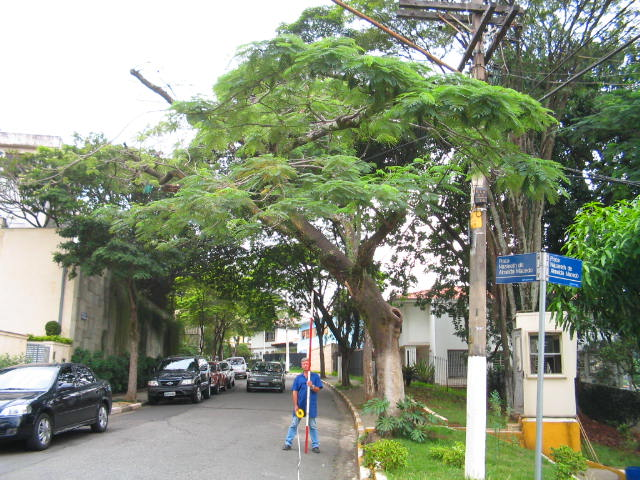crown: (17, 36, 572, 287)
stem: (335, 276, 427, 436)
stick: (297, 289, 319, 455)
tree: (15, 34, 573, 439)
